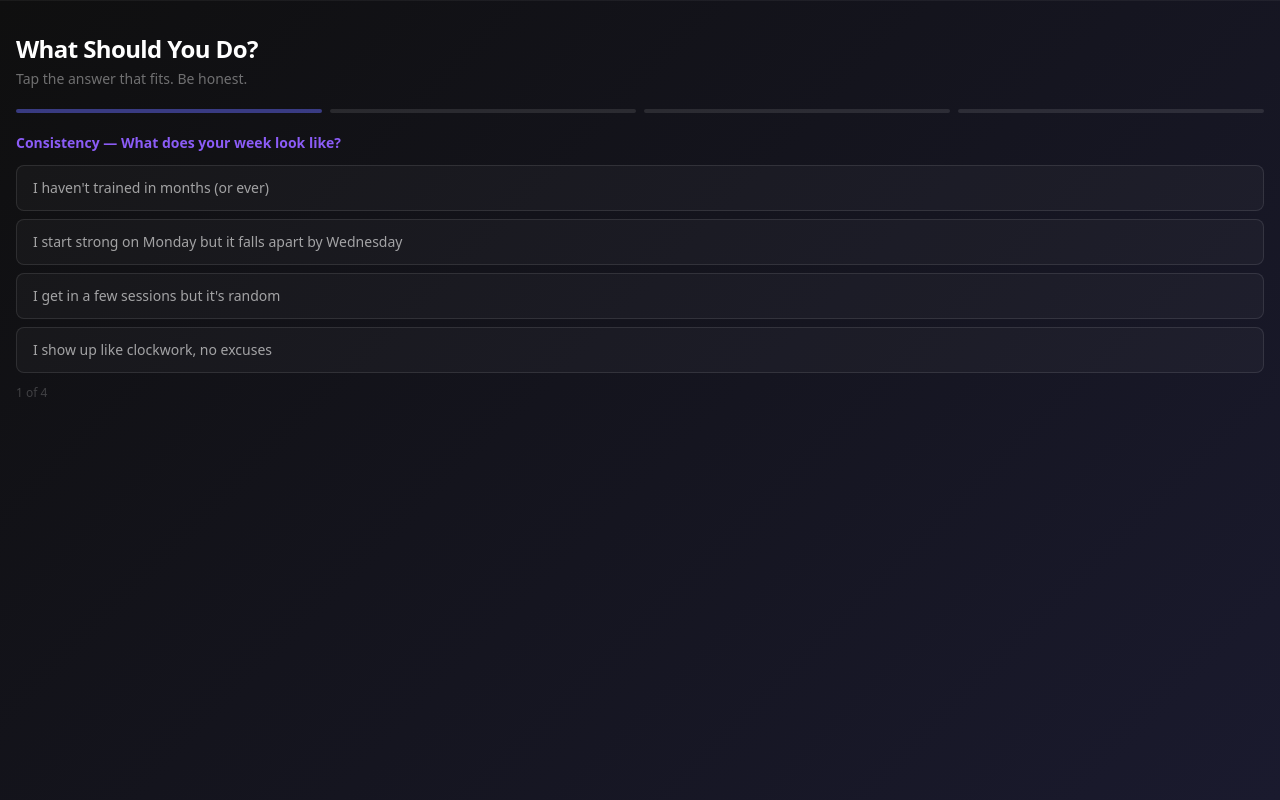
Test: Assessment › advances to next question when user scores strong
This screenshot has width=1280, height=800.
Click the button "I show up like clockwork, no excuses" at point(153, 350), box left=16, top=327, right=1264, bottom=373
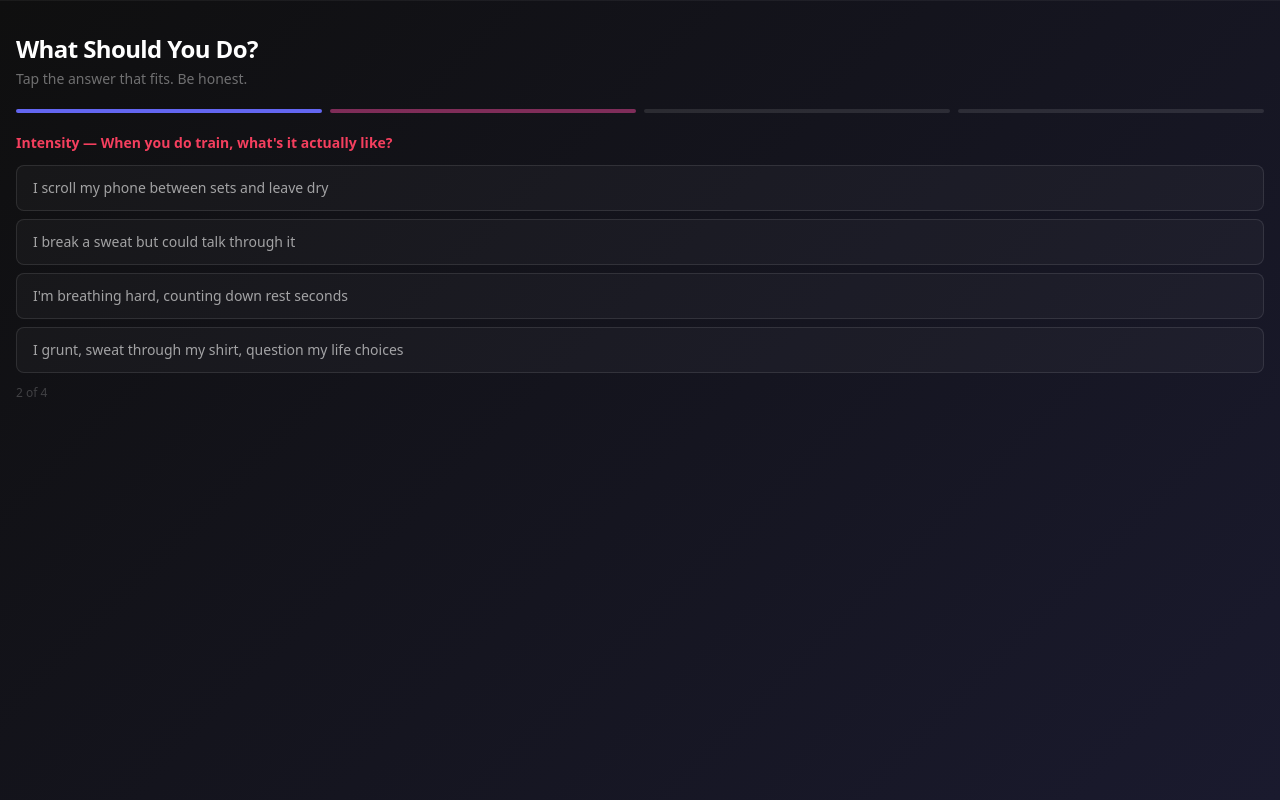
Expected: the button "I scroll my phone between sets and leave dry" is shown, left=16, top=165, right=1264, bottom=211
